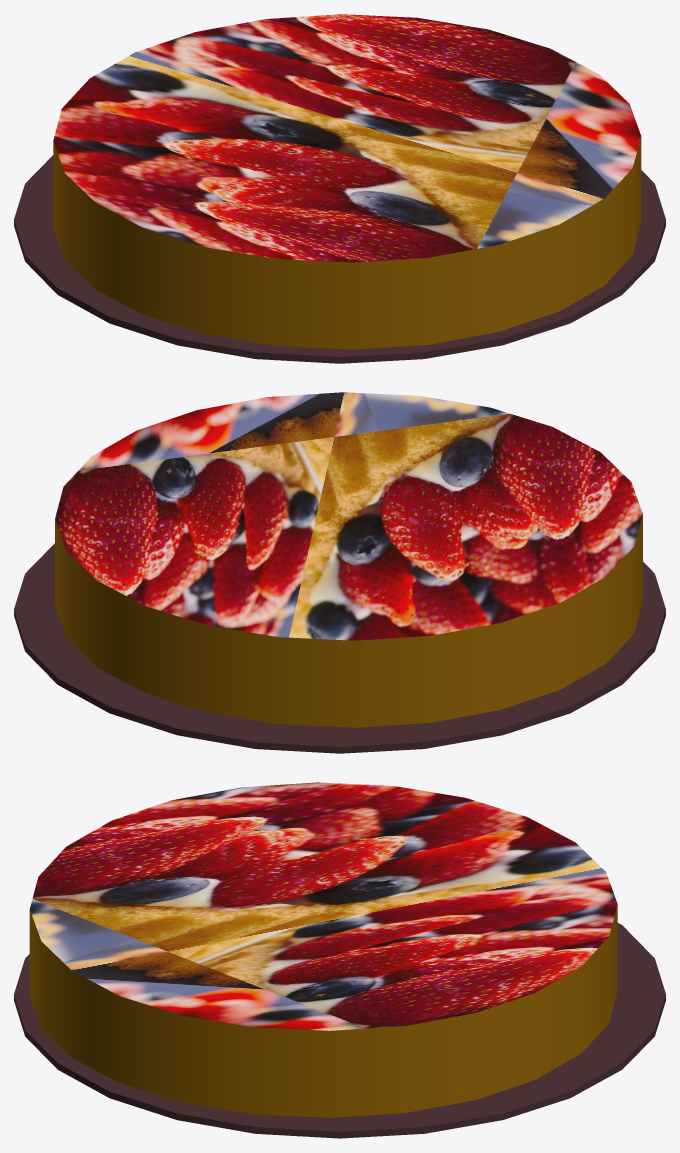
The model's file is pasta.glb.
3 views of the same model, one above another, from view 1: azimuth 30°, elevation 25°; view 2: azimuth 150°, elevation 25°; view 3: azimuth 270°, elevation 25° (orthographic).
Parts seen in each view (by area): view 1: Component#57; view 2: Component#57; view 3: Component#57.
Part boxes in pixels (x1,y1,x2,y2): Component#57: (14, 14, 665, 363); Component#57: (14, 392, 665, 753); Component#57: (14, 782, 665, 1138).
Size of the model in its own units: 0.2794 by 0.0443 by 0.2794.
Materials: 4 (1 with a texture image).
